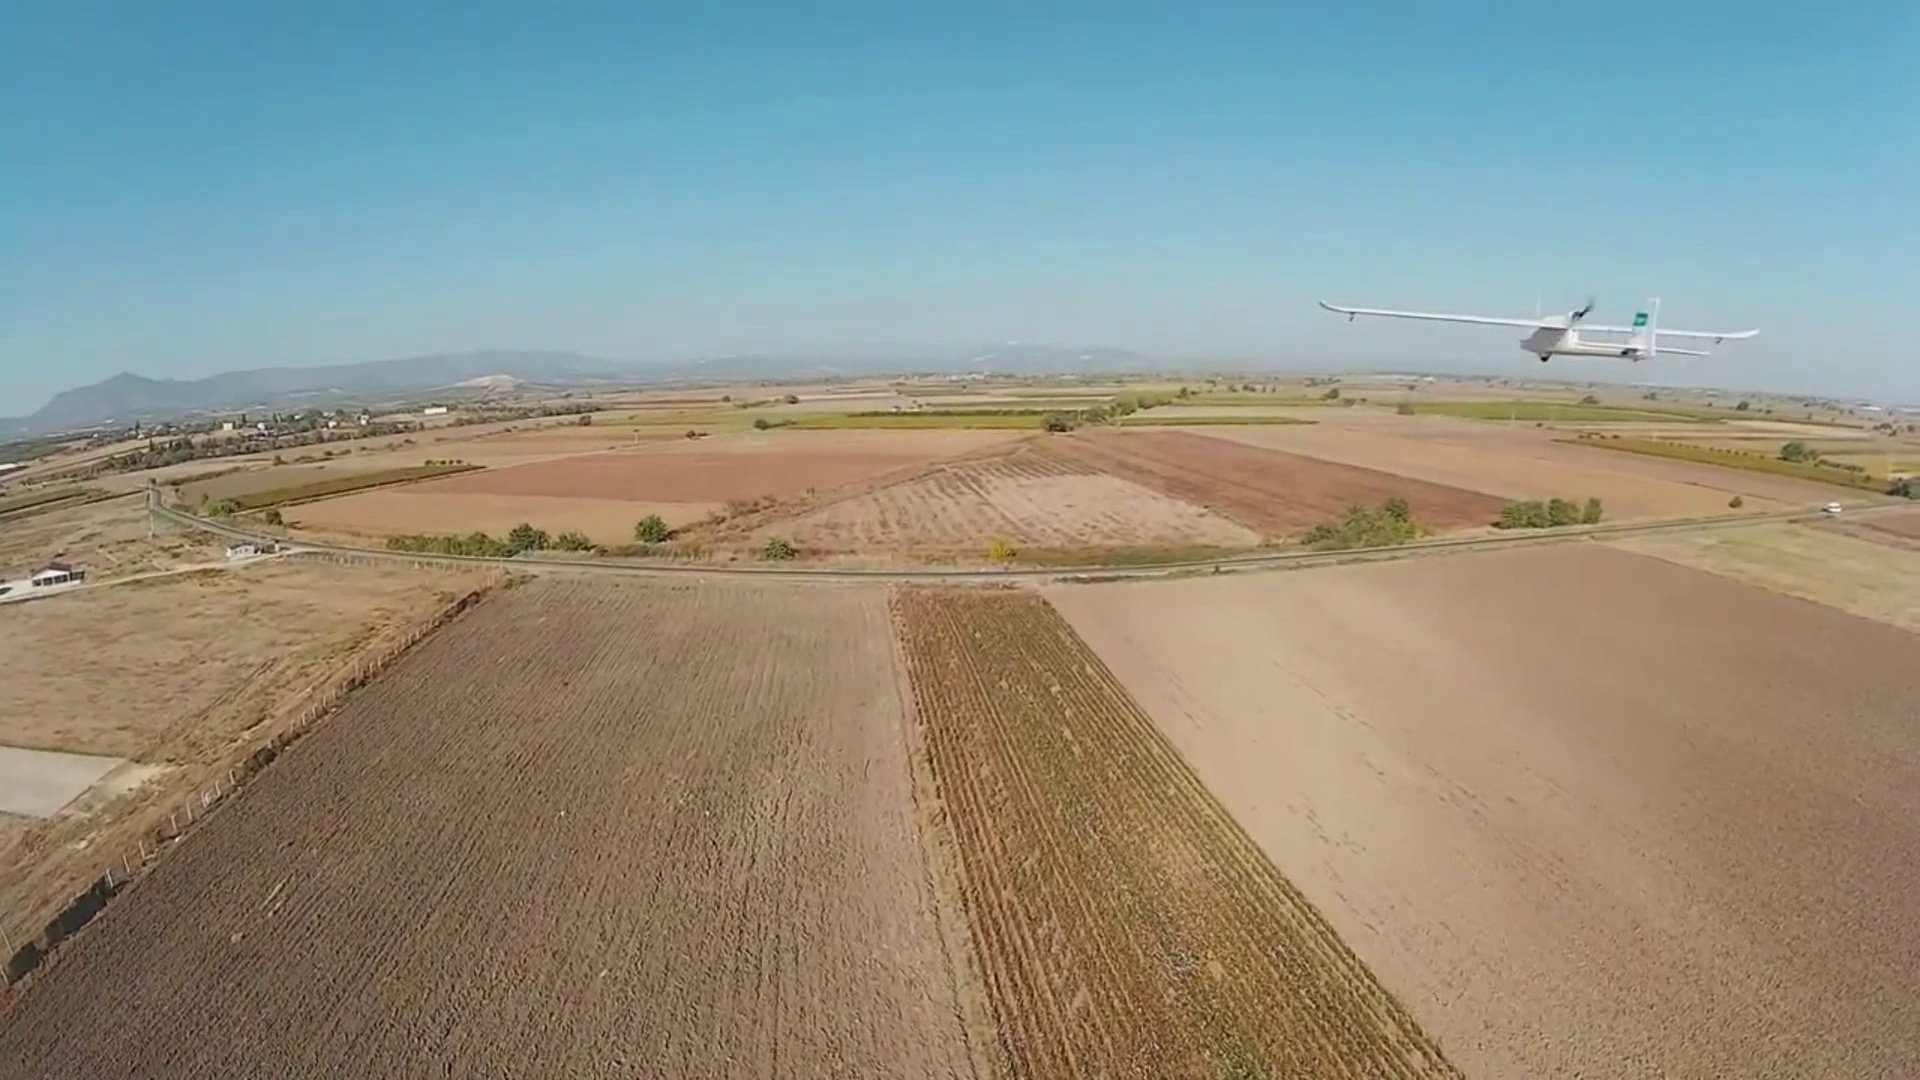airplane: (1316, 294, 1763, 367)
